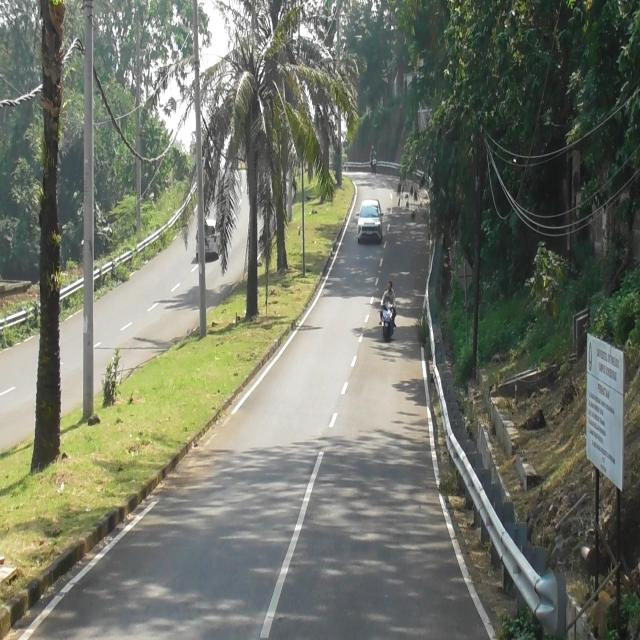motorcycle: (382, 302, 395, 341), (372, 156, 376, 175)
person: (382, 282, 396, 308), (370, 146, 377, 160), (385, 294, 391, 305)
rider_region: (380, 279, 397, 344), (370, 144, 378, 176)
